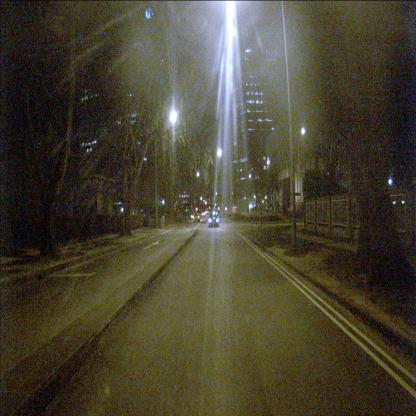vehicle-car: (209, 211, 219, 228), (193, 213, 200, 223)
